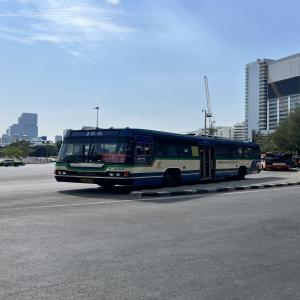BMTA-bus: (54, 128, 261, 192), (261, 152, 298, 171)
Bus Line Number: (82, 130, 105, 137), (274, 153, 284, 156)
Bus Side Number: (108, 167, 127, 171), (284, 167, 292, 168)
Destination Sign: (101, 153, 126, 163), (284, 160, 290, 162)
